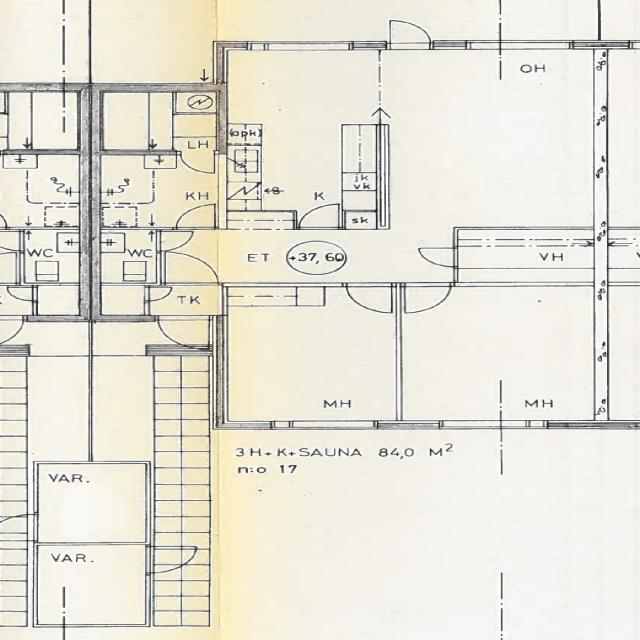door: (156, 315, 210, 351), (166, 252, 218, 286), (388, 16, 432, 50), (405, 282, 452, 313), (147, 546, 200, 572), (347, 282, 391, 312), (177, 205, 216, 230), (299, 205, 339, 229), (181, 150, 215, 175), (156, 231, 198, 251), (421, 248, 460, 266), (144, 288, 174, 302)
